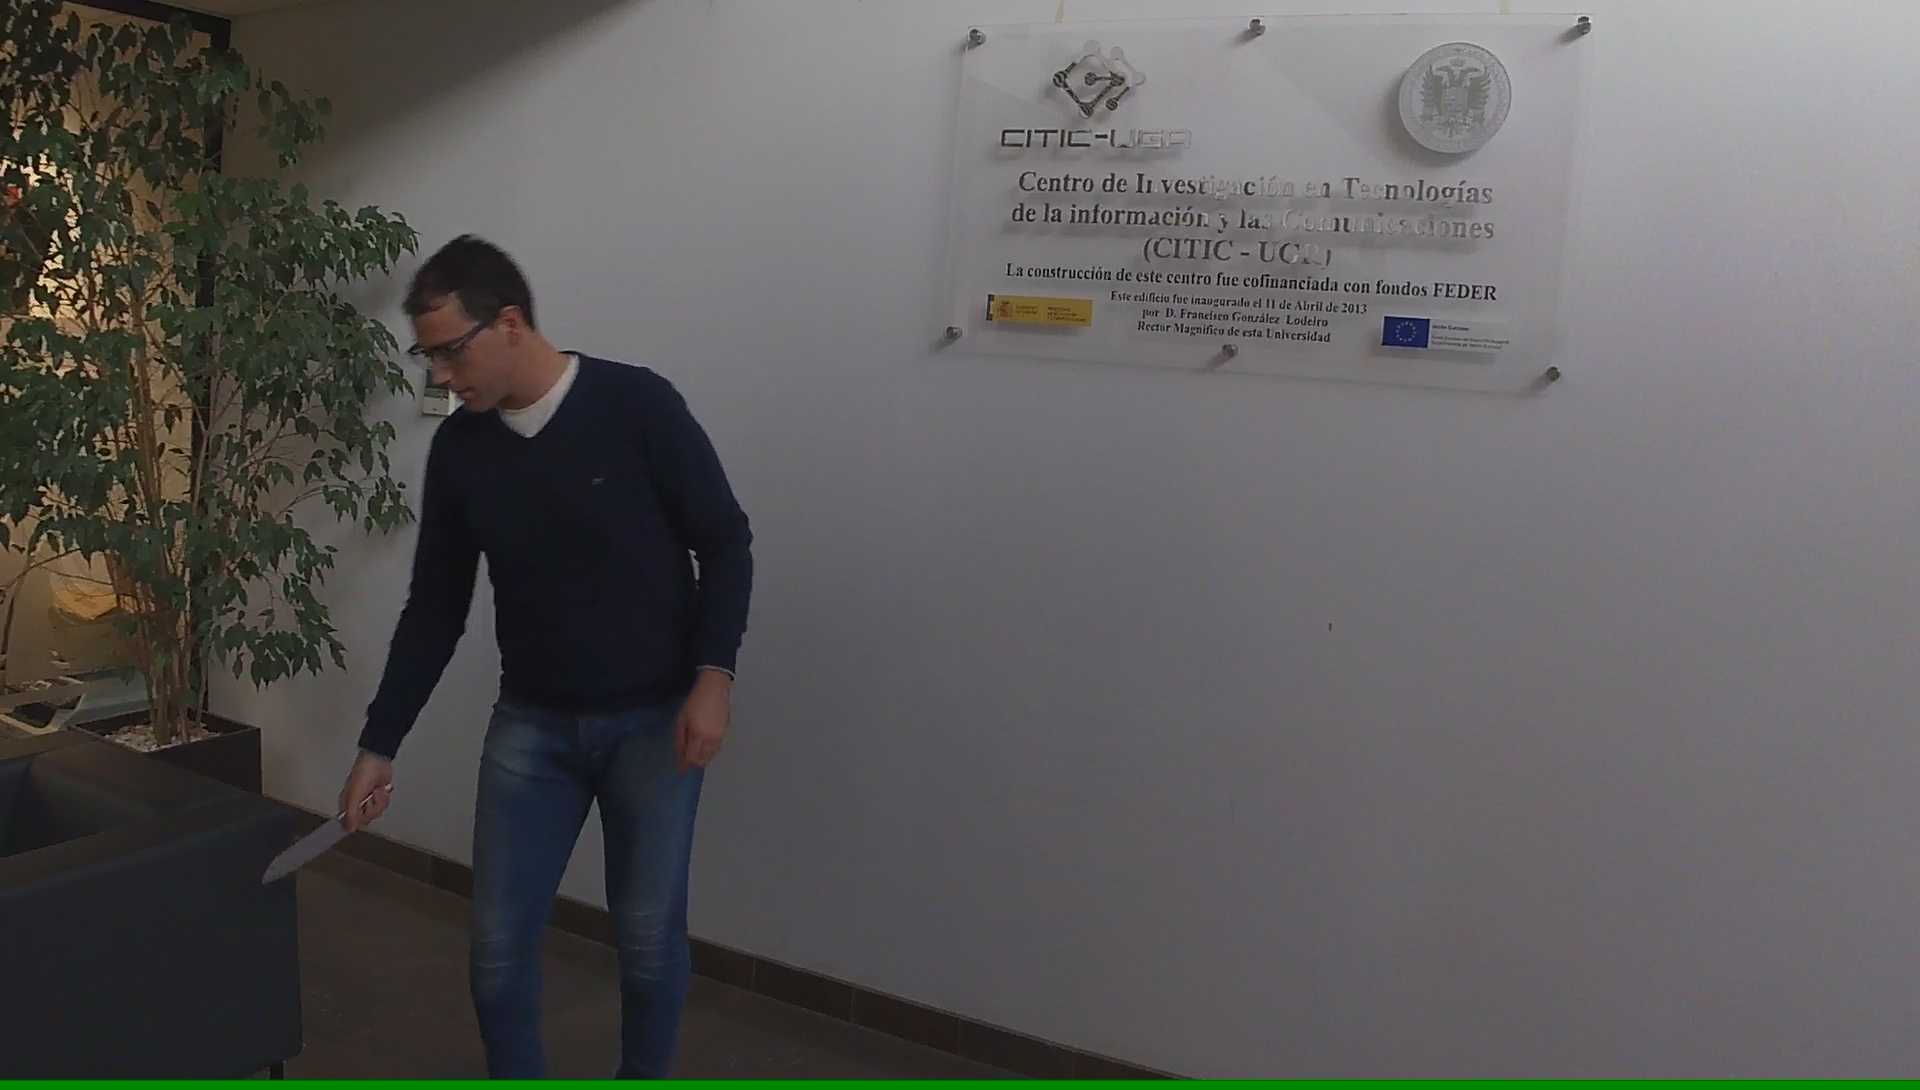knife: (255, 778, 400, 894)
